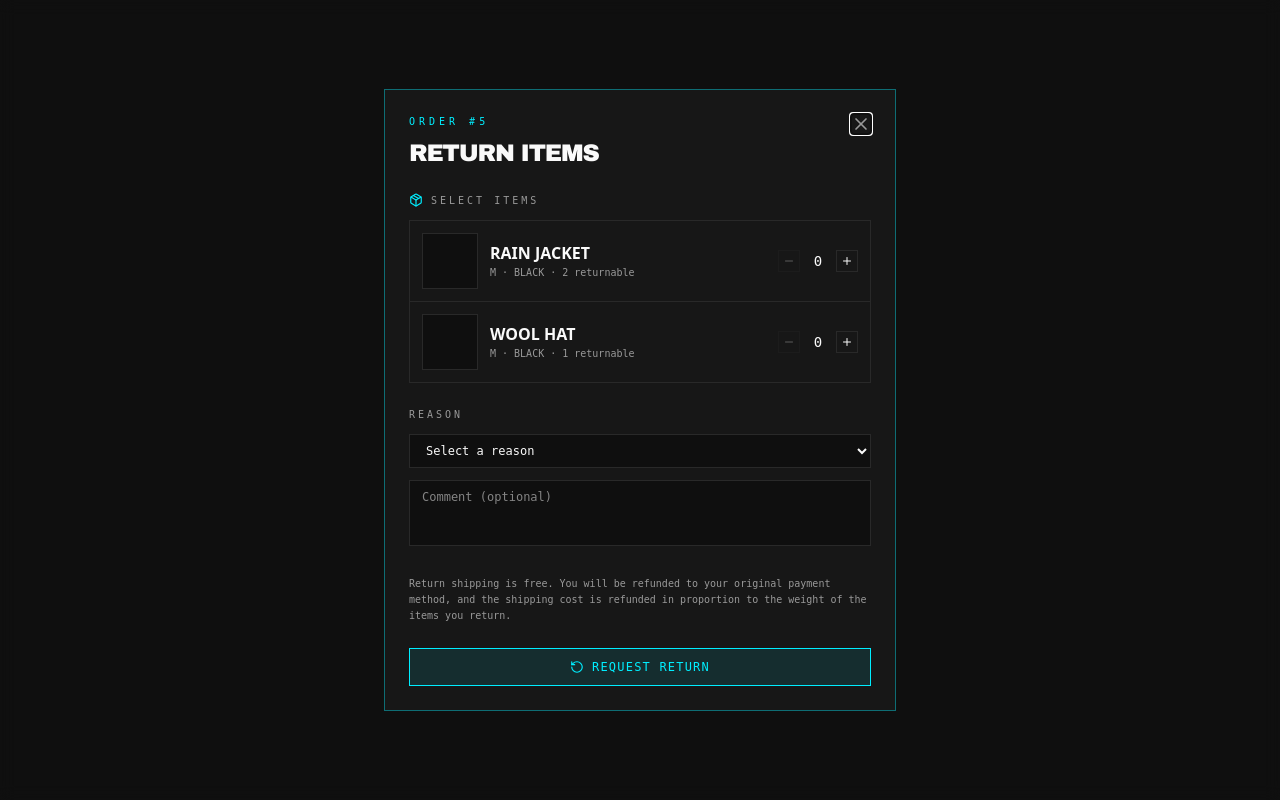
ReturnDialog › keeps each quantity between zero and what can be returned
expect the button named "Decrease quantity" next to "M · BLACK · 2 returnable" is disabled: met, box [778,250,800,272]
Click the button named "Increase quantity" in the row of "M · BLACK · 1 returnable" at (847, 342), box [836,331,858,353]
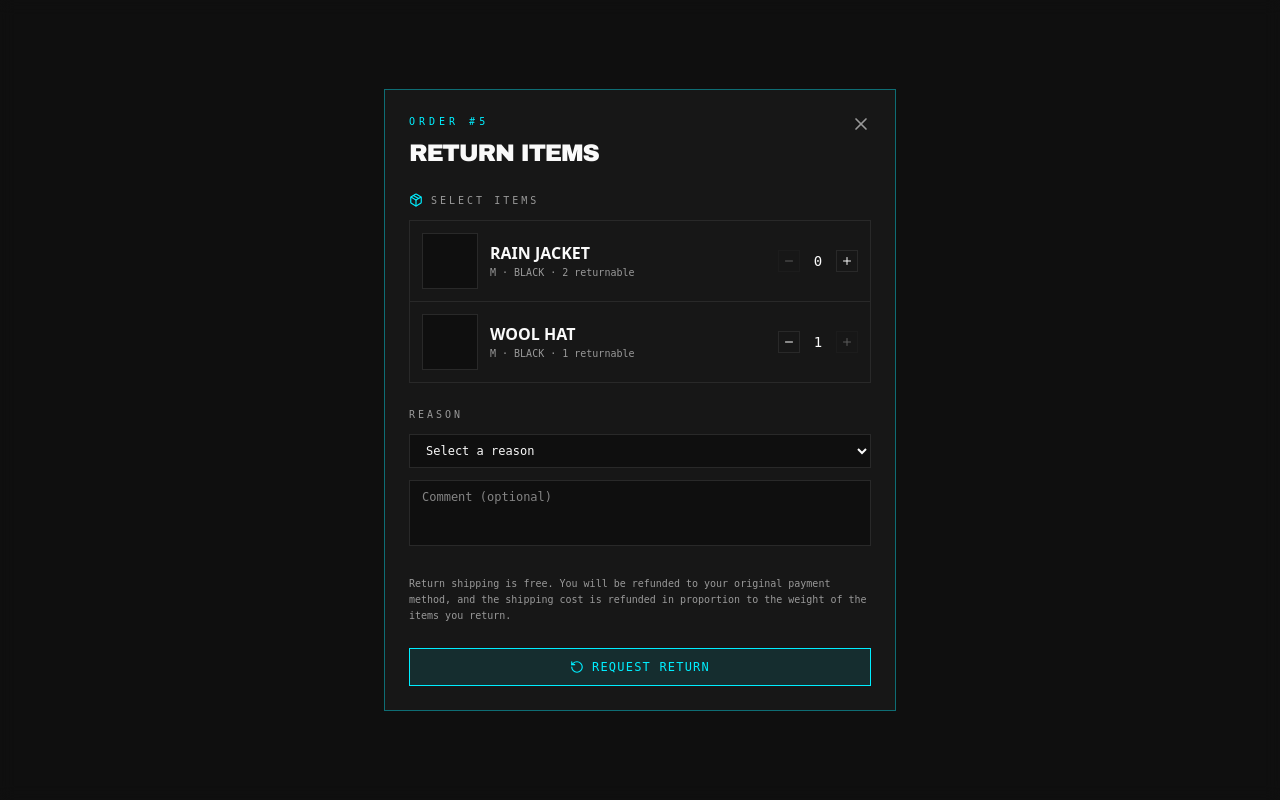
expect the button named "Increase quantity" in the row of "M · BLACK · 1 returnable" is disabled: met, box [836,331,858,353]
expect the button named "Decrease quantity" next to "M · BLACK · 1 returnable" is enabled: met, box [778,331,800,353]
Click the button named "Increase quantity" in the row of "M · BLACK · 2 returnable" at (847, 261), box [836,250,858,272]
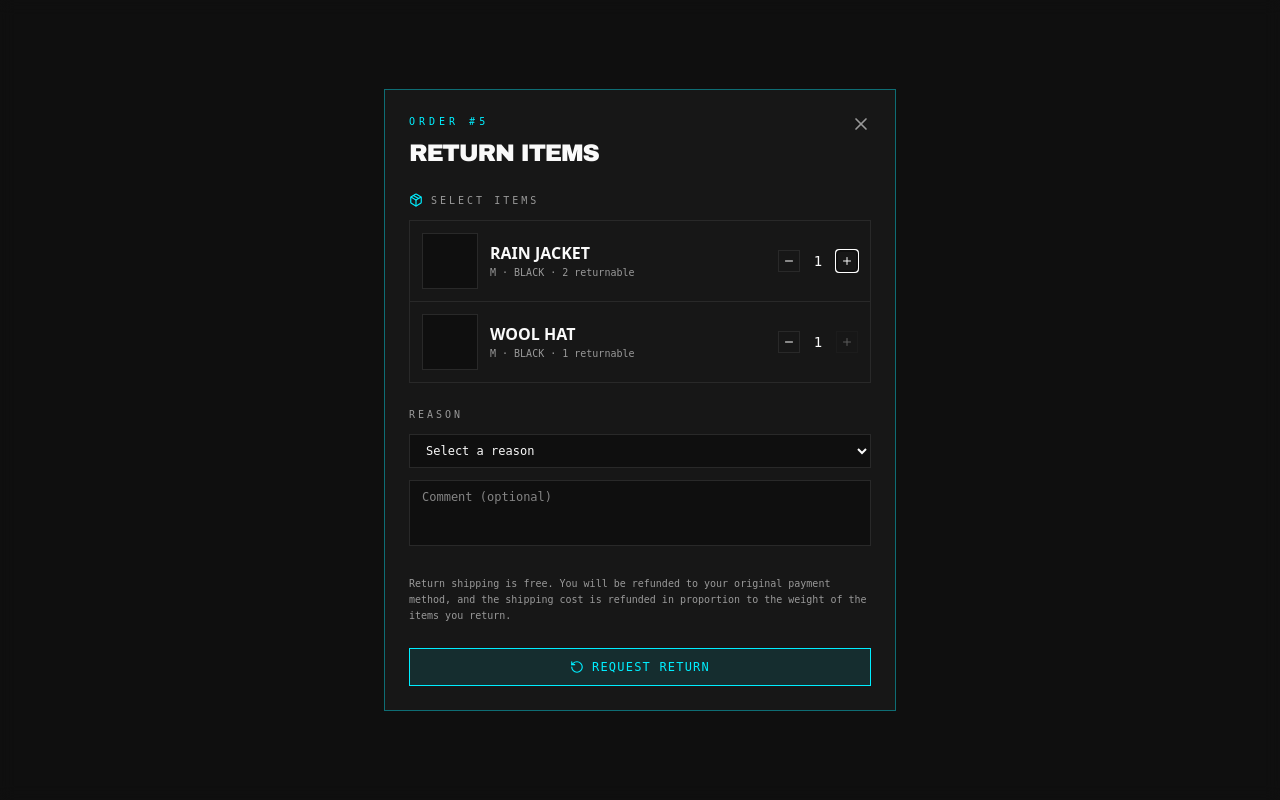
Click the button named "Increase quantity" in the row of "M · BLACK · 2 returnable" at (847, 261), box [836,250,858,272]
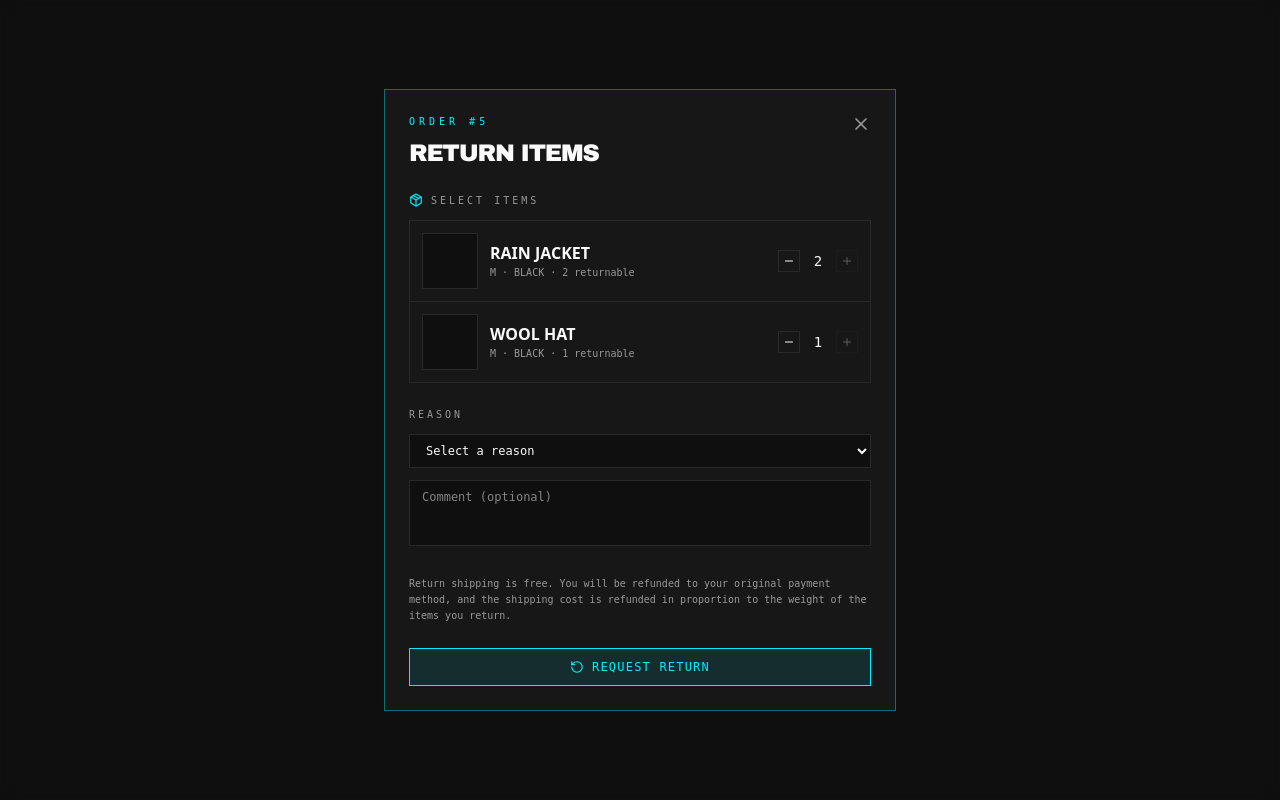
expect the button named "Increase quantity" in the row of "M · BLACK · 2 returnable" is disabled: met, box [836,250,858,272]
